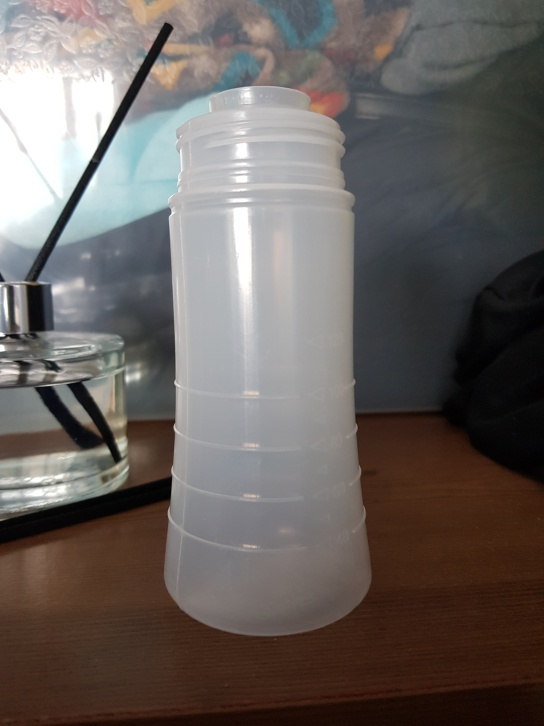Plastic: (164, 84, 377, 639)
